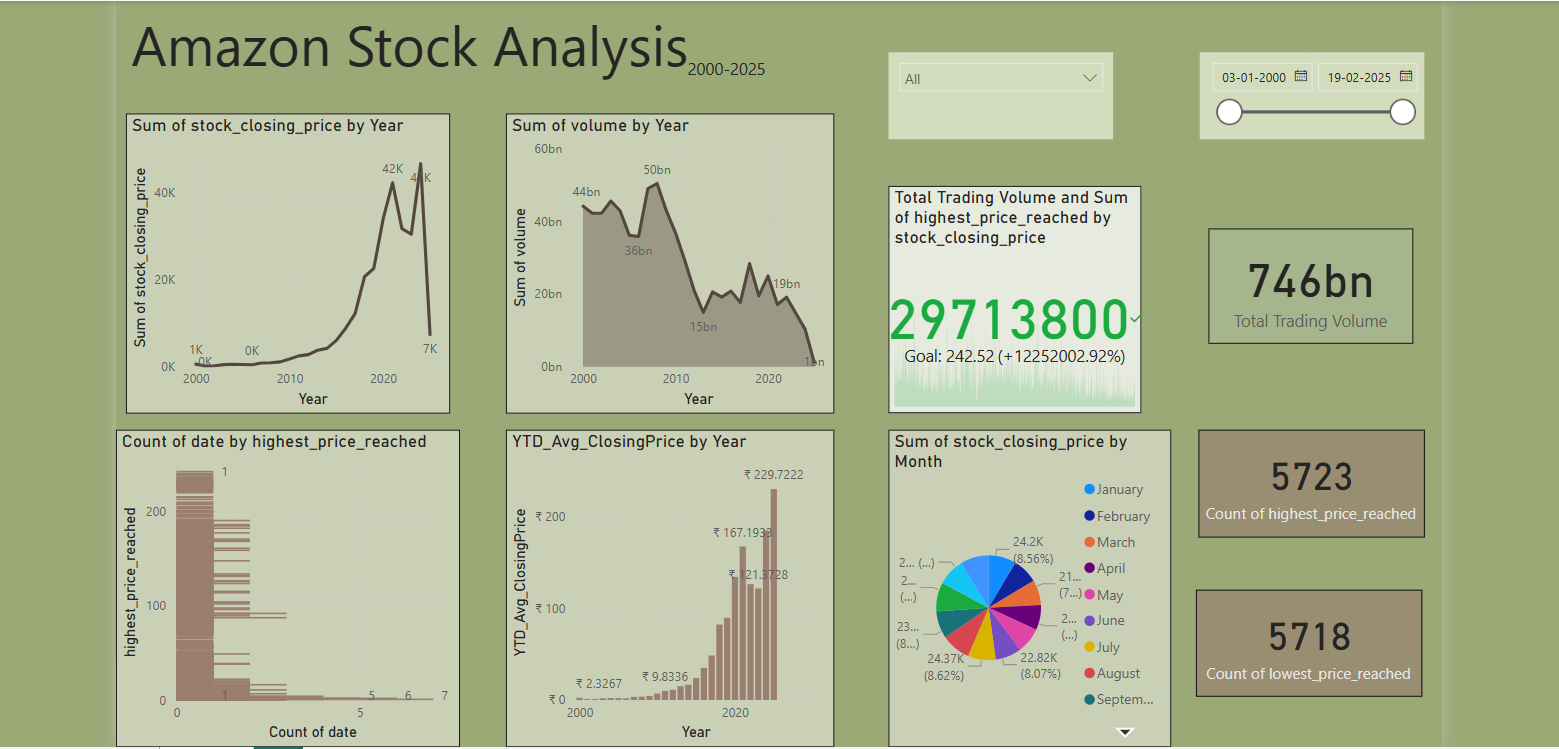

Layout of this report page (visuals, bound fields, positions):
{"tool":"powerbi","page":{"name":"Page 1","canvas":[1280,720],"ordinal":0},"visuals":[{"type":"lineChart","fields":{"Category":["Amazon stock data 2000-2025.date.Variation.Date Hierarchy.Year","Amazon stock data 2000-2025.date.Variation.Date Hierarchy.Quarter","Amazon stock data 2000-2025.date.Variation.Date Hierarchy.Month","Amazon stock data 2000-2025.date.Variation.Date Hierarchy.Day"],"Y":["Sum(Amazon stock data 2000-2025.stock_closing_price)"]},"box":[9.6,108.4,312.9,289.5],"z":0},{"type":"textbox","box":[9.6,0,577.7,81],"z":1000},{"type":"areaChart","fields":{"Category":["Amazon stock data 2000-2025.date.Variation.Date Hierarchy.Year","Amazon stock data 2000-2025.date.Variation.Date Hierarchy.Quarter","Amazon stock data 2000-2025.date.Variation.Date Hierarchy.Month","Amazon stock data 2000-2025.date.Variation.Date Hierarchy.Day"],"Y":["Sum(Amazon stock data 2000-2025.volume)"]},"box":[376,108.4,317,289.5],"z":2000},{"type":"barChart","fields":{"Y":["Count(Amazon stock data 2000-2025.date)"],"Category":["Amazon stock data 2000-2025.highest_price_reached","Amazon stock data 2000-2025.lowest_price_reached","Amazon stock data 2000-2025.date.Variation.Date Hierarchy.Year"]},"box":[0,413.8,322.1,306.4],"z":3000},{"type":"card","fields":{"Values":["Amazon stock data 2000-2025.Total Trading Volume"]},"box":[1053.9,219.6,197.6,111.1],"z":4000},{"type":"kpi","fields":{"Indicator":["Amazon stock data 2000-2025.Total Trading Volume"],"TrendLine":["Amazon stock data 2000-2025.stock_closing_price"],"Goal":["Sum(Amazon stock data 2000-2025.highest_price_reached)"]},"box":[745.1,178.4,244.3,219.6],"z":5000},{"type":"clusteredColumnChart","fields":{"Category":["Amazon stock data 2000-2025.date.Variation.Date Hierarchy.Year"],"Y":["Amazon stock data 2000-2025.YTD_Avg_ClosingPrice"]},"box":[376,414.4,317,306],"z":6000},{"type":"pieChart","fields":{"Y":["Sum(Amazon stock data 2000-2025.stock_closing_price)"],"Category":["Amazon stock data 2000-2025.date.Variation.Date Hierarchy.Month"]},"box":[716.6,413.8,307.6,306.4],"z":7000},{"type":"card","fields":{"Values":["Count(Amazon stock data 2000-2025.highest_price_reached)"]},"box":[1044.3,414.4,218.2,104.3],"z":8000},{"type":"card","fields":{"Values":["Count(Amazon stock data 2000-2025.lowest_price_reached)"]},"box":[1042.9,568.1,218.2,102.9],"z":9000},{"type":"slicer","fields":{"Values":["Amazon stock data 2000-2025.date"]},"box":[1045.6,49.4,216.8,83.7],"z":10000},{"type":"slicer","fields":{"Values":["Amazon stock data 2000-2025.date.Variation.Date Hierarchy.Year"]},"box":[745.1,49.4,216.8,83.7],"z":11000},{"type":"textbox","box":[546.1,49.4,111.1,31.6],"z":12000}]}

Visuals, with their boxes in screenshot pixels (x1, y1, x2, y2):
lineChart - Amazon stock data 2000-2025.date.Variation.Date Hierarchy.Year x Amazon stock data 2000-2025.date.Variation.Date Hierarchy.Quarter: bbox=(132, 111, 452, 407)
textbox: bbox=(132, 0, 723, 83)
areaChart - Amazon stock data 2000-2025.date.Variation.Date Hierarchy.Year x Amazon stock data 2000-2025.date.Variation.Date Hierarchy.Quarter: bbox=(507, 111, 831, 407)
barChart - Count(Amazon stock data 2000-2025.date) x Amazon stock data 2000-2025.highest_price_reached: bbox=(122, 423, 451, 737)
card - Amazon stock data 2000-2025.Total Trading Volume: bbox=(1200, 225, 1402, 338)
kpi - Amazon stock data 2000-2025.Total Trading Volume x Amazon stock data 2000-2025.stock_closing_price: bbox=(884, 183, 1134, 407)
clusteredColumnChart - Amazon stock data 2000-2025.date.Variation.Date Hierarchy.Year x Amazon stock data 2000-2025.YTD_Avg_ClosingPrice: bbox=(507, 424, 831, 737)
pieChart - Sum(Amazon stock data 2000-2025.stock_closing_price) x Amazon stock data 2000-2025.date.Variation.Date Hierarchy.Month: bbox=(855, 423, 1170, 737)
card - Count(Amazon stock data 2000-2025.highest_price_reached): bbox=(1190, 424, 1414, 531)
card - Count(Amazon stock data 2000-2025.lowest_price_reached): bbox=(1189, 581, 1412, 687)
slicer - Amazon stock data 2000-2025.date: bbox=(1192, 51, 1413, 136)
slicer - Amazon stock data 2000-2025.date.Variation.Date Hierarchy.Year: bbox=(884, 51, 1106, 136)
textbox: bbox=(681, 51, 794, 83)
